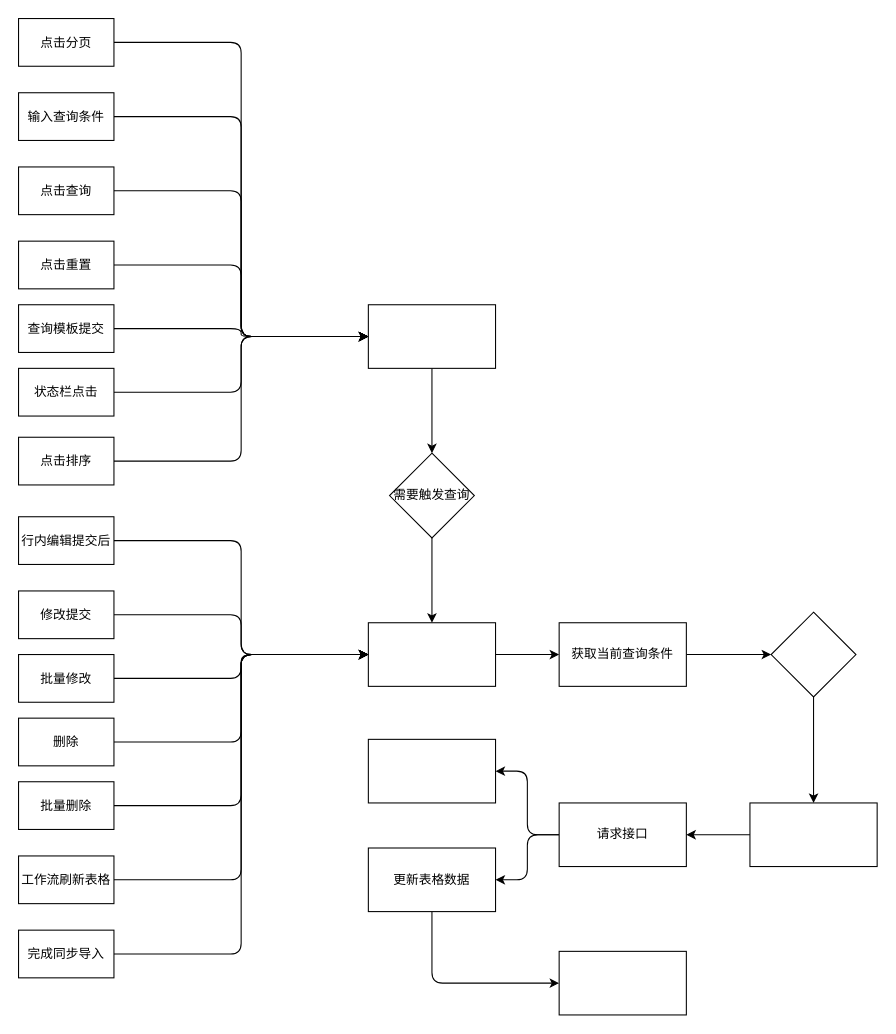
The diagram is 896 pixels wide and 1034 high, and some of its shapes have lost their labels. Each missing label, with the centre of its shape:
"处理参数" belongs at [813,834].
"更新当前查询条件" belongs at [431,770].
"更新查询条件" belongs at [431,336].
"满足必要前提" belongs at [813,654].
"触发查询" belongs at [431,654].
"触发表格渲染" belongs at [622,982].
